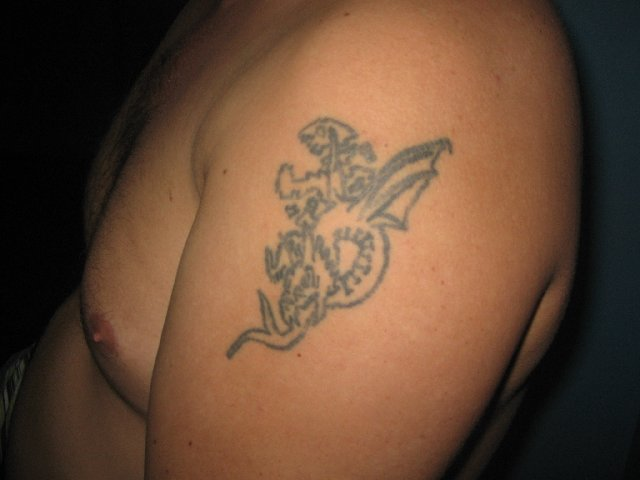tatu6_drakon: (231, 112, 457, 407)
